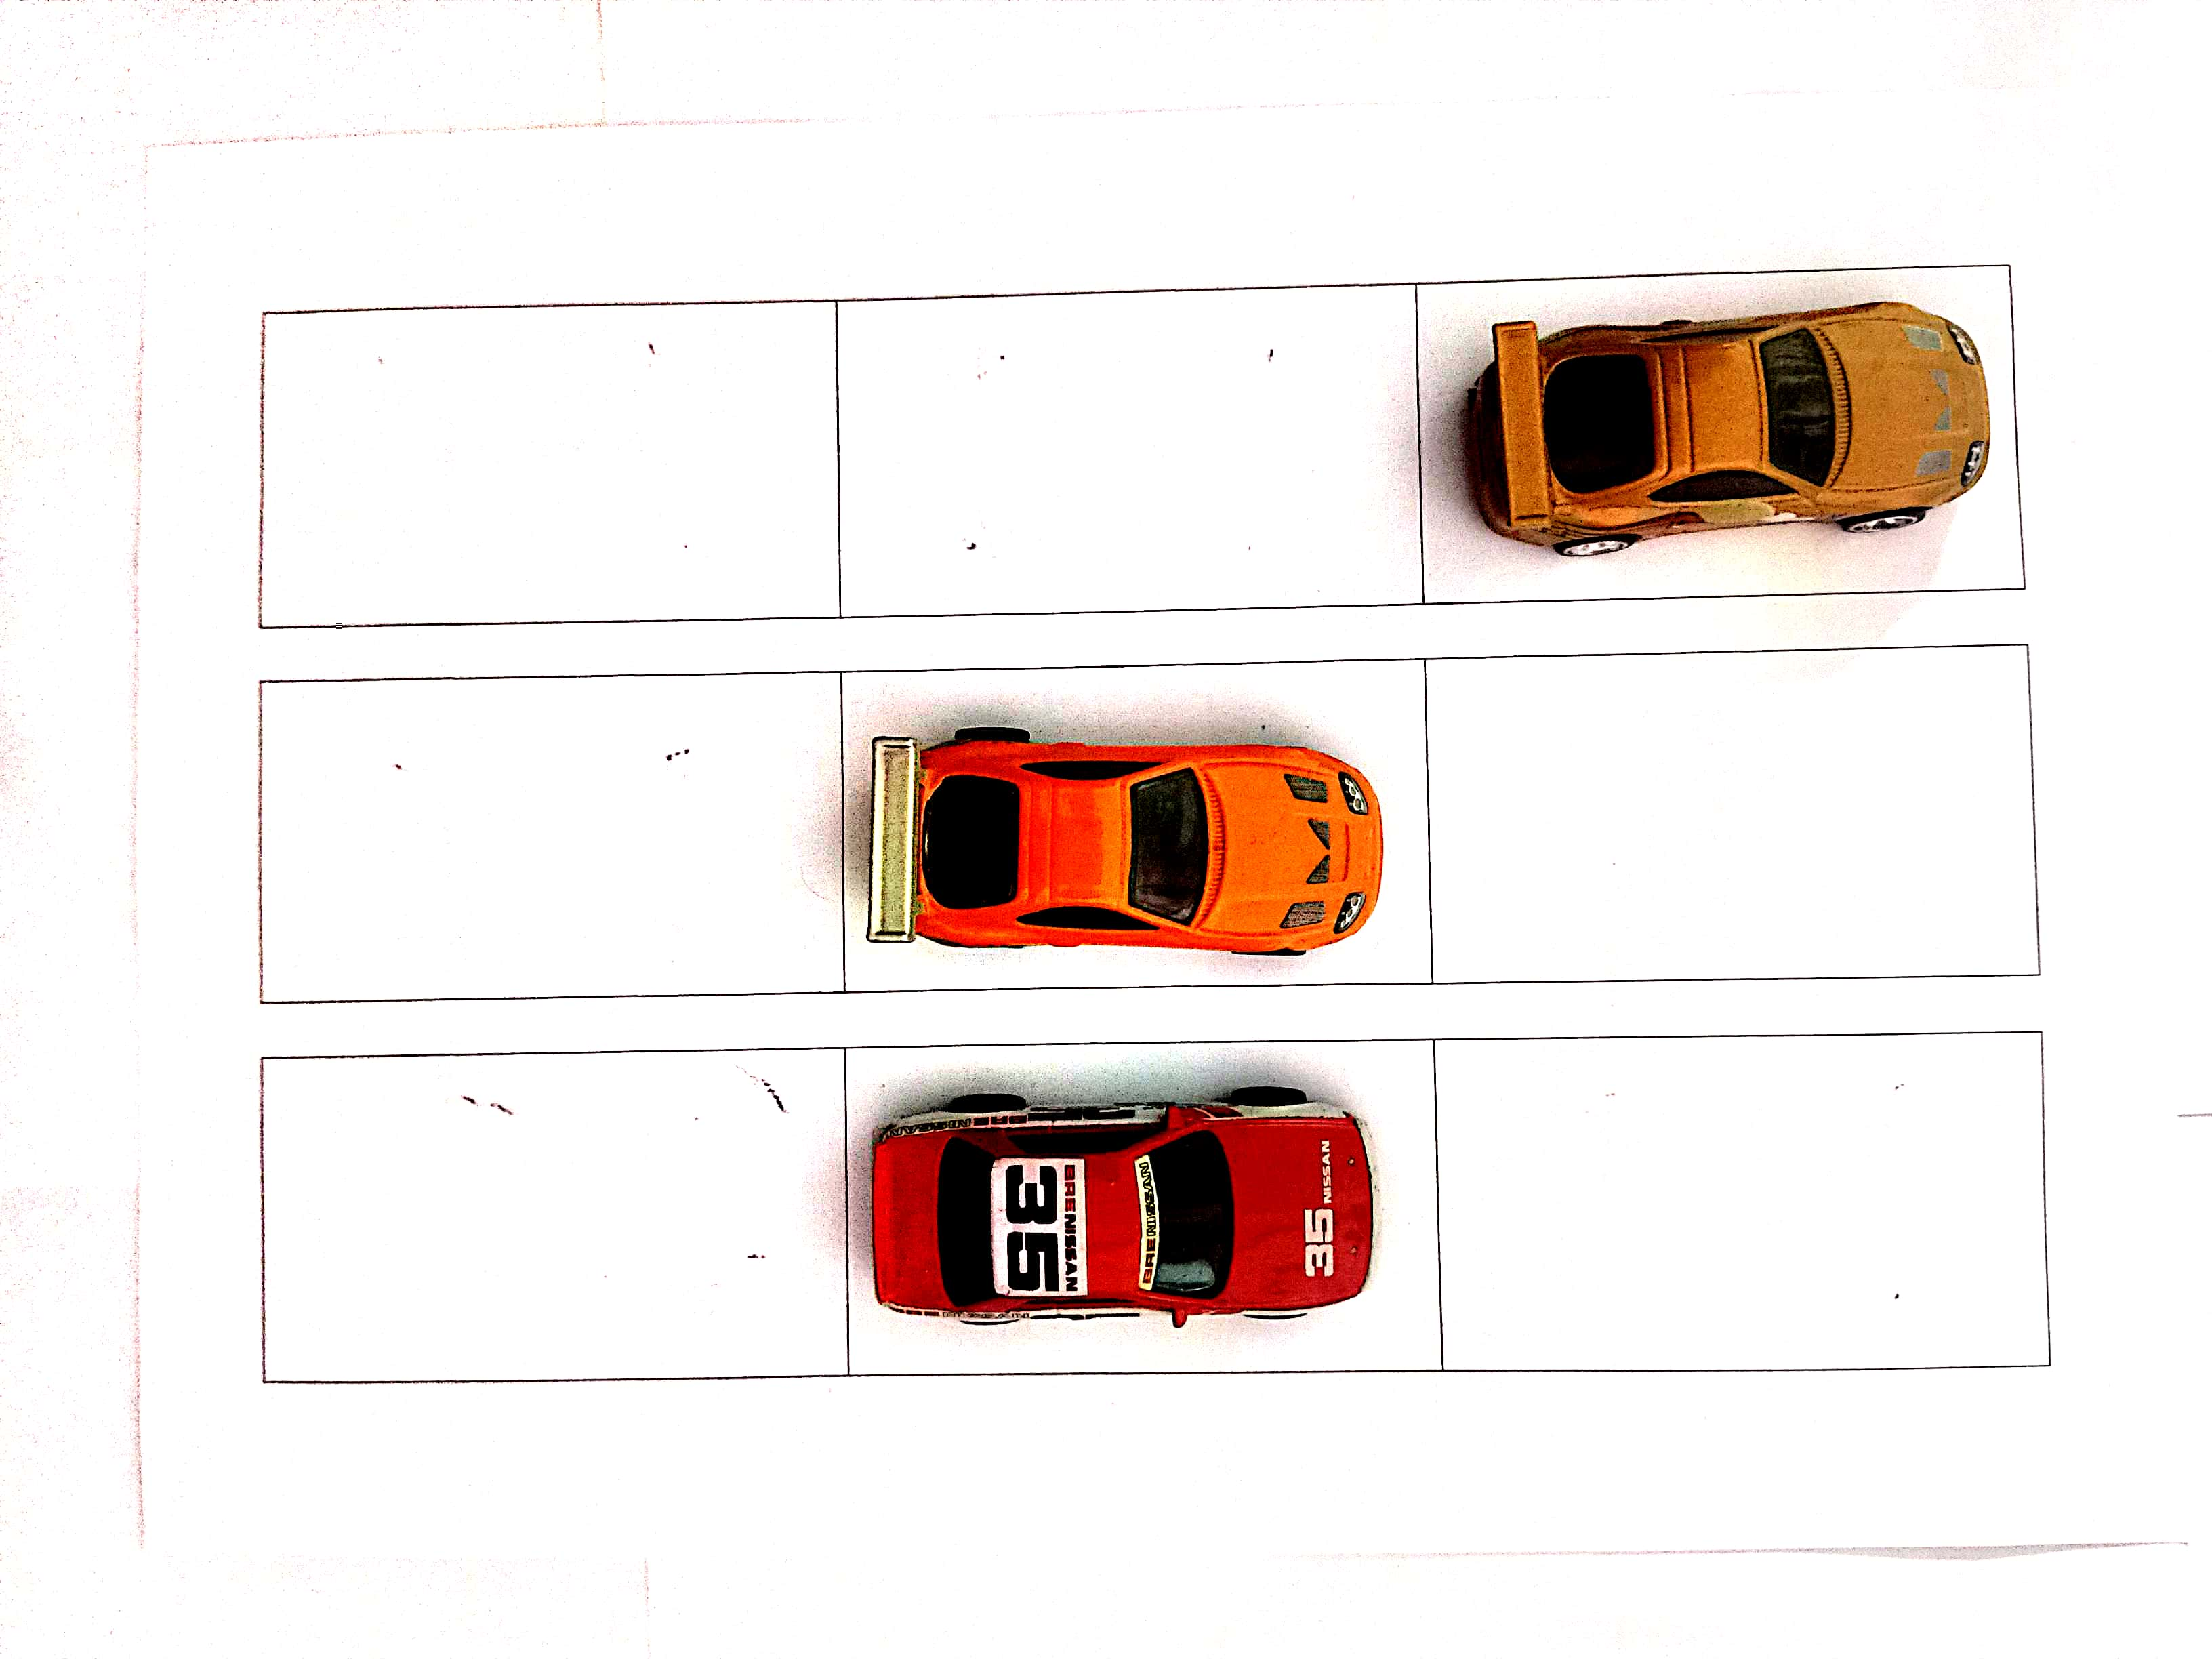Busy: (848, 1046, 1433, 1378), (1432, 272, 2015, 603), (845, 662, 1414, 992)
Free: (1425, 653, 2033, 992), (1433, 1037, 2050, 1363), (836, 289, 1428, 615), (265, 667, 840, 1002), (268, 1046, 840, 1378), (261, 300, 831, 624)
